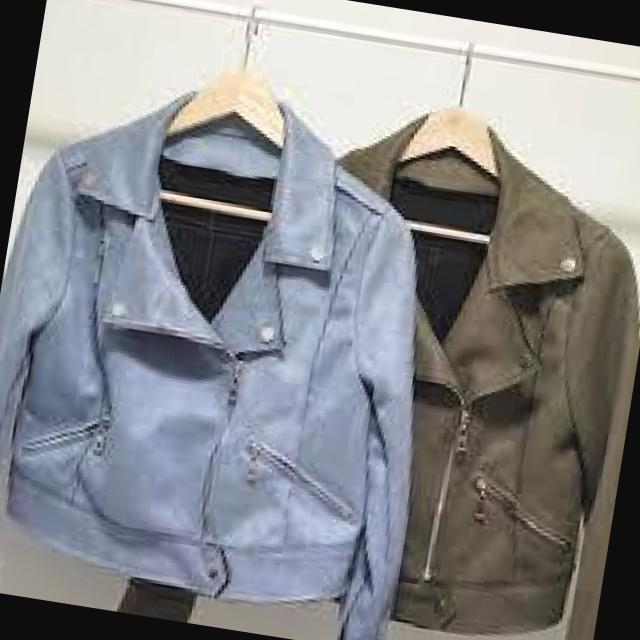jacket: (0, 61, 463, 640), (261, 97, 640, 640)
